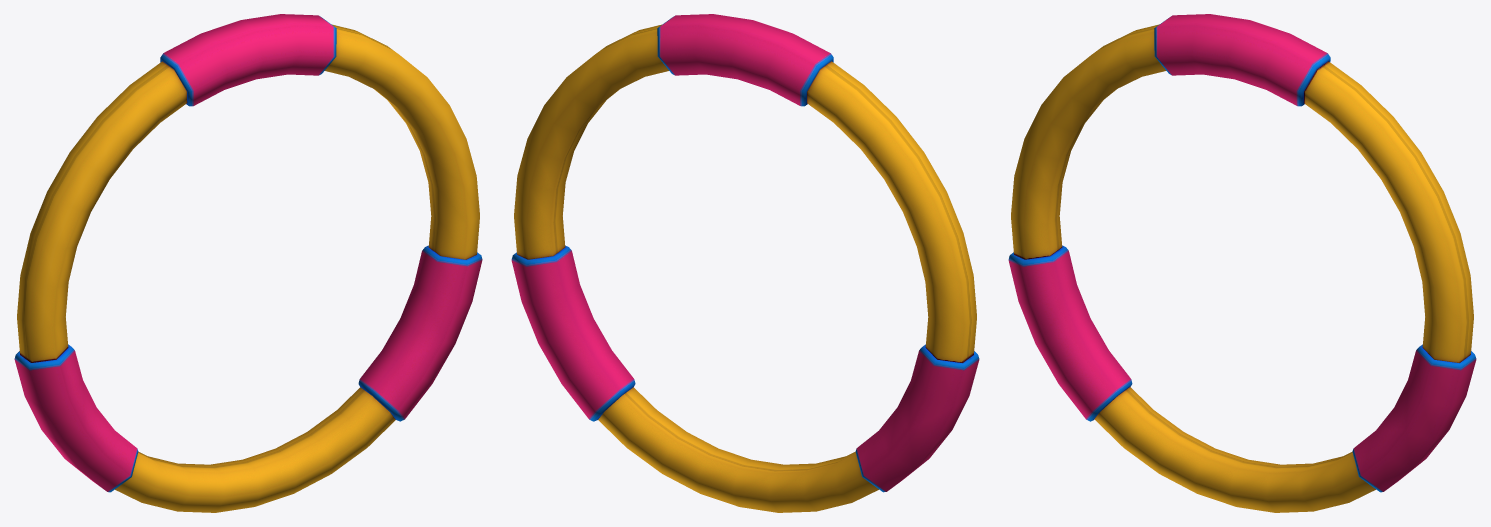
The model's file is HoopsScoreRing.fbx.
3 renders of one model, left to right at view 1: azimuth 30°, elevation 25°; view 2: azimuth 150°, elevation 25°; view 3: azimuth 330°, elevation 25°, orthographic.
Visible parts, largest first — view 1: ENV_SY01_HHR_Hoop02_MO_0; view 2: ENV_SY01_HHR_Hoop02_MO_0; view 3: ENV_SY01_HHR_Hoop02_MO_0.
Boxes of the visible parts, x1=… form: ENV_SY01_HHR_Hoop02_MO_0: x1=14, y1=14, x2=482, y2=512; ENV_SY01_HHR_Hoop02_MO_0: x1=511, y1=14, x2=979, y2=512; ENV_SY01_HHR_Hoop02_MO_0: x1=1008, y1=14, x2=1476, y2=512.
Bounding box in the file's own units: 15.4 × 15.5 × 1.81.
